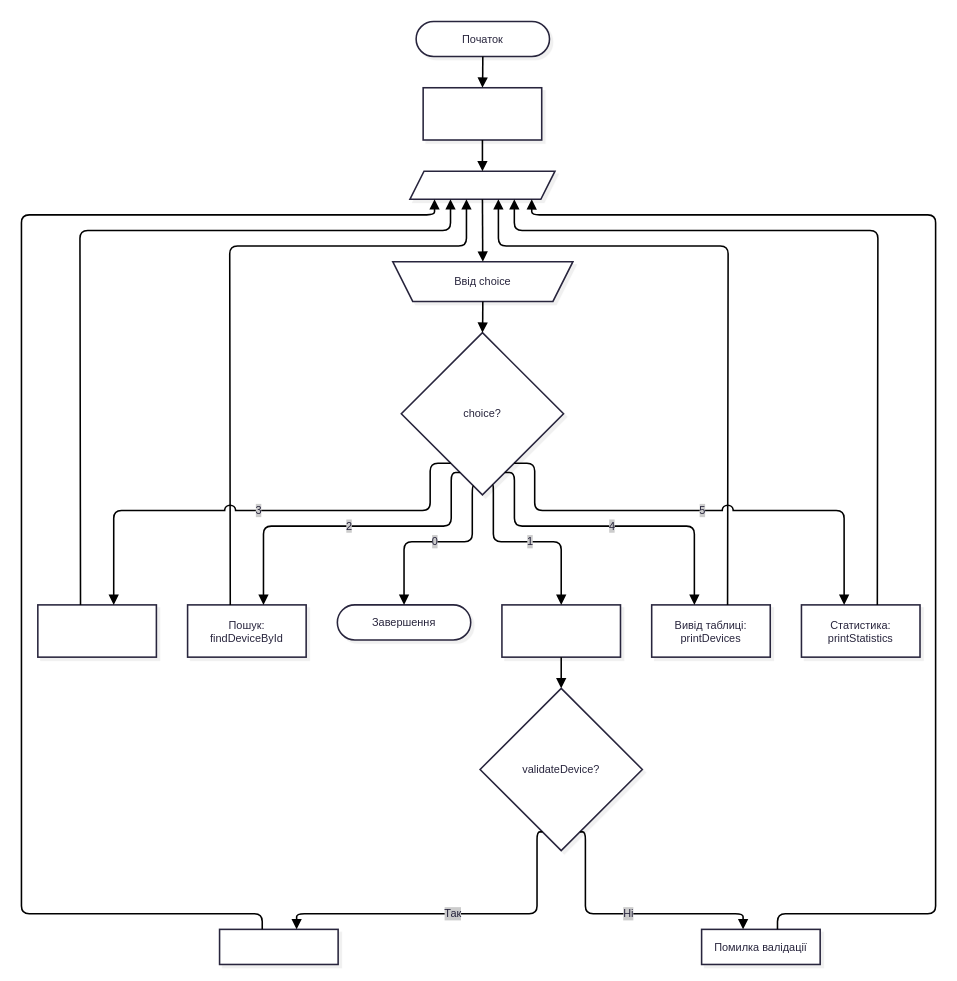
Some shapes in this 957 by 981 pixel diagram are drawn without their labels. Here are the shapes that lost their labels. From the top down, the centre of each, then its label:
pixel 483 115: count = 0, devices 100
pixel 483 186: Показ меню 0-5
pixel 98 632: Зміна стану: changeStatus
pixel 562 632: Додати пристрій: readDevice
pixel 280 948: devices count++
